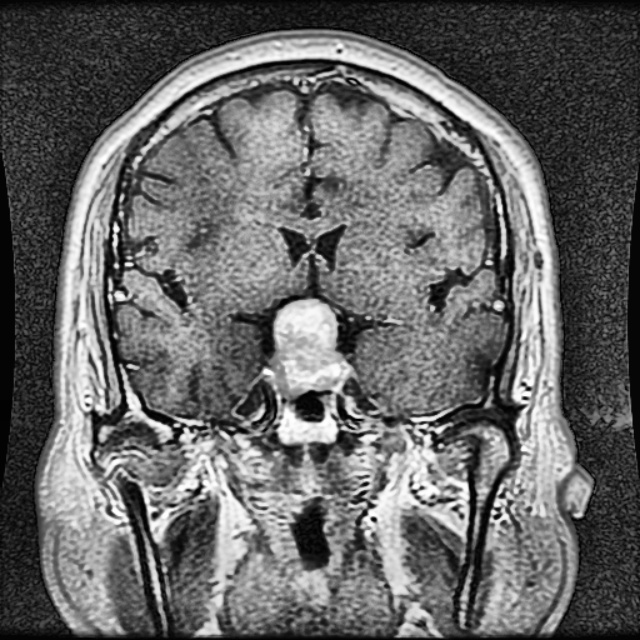Pituitary: (273, 297, 339, 444)
